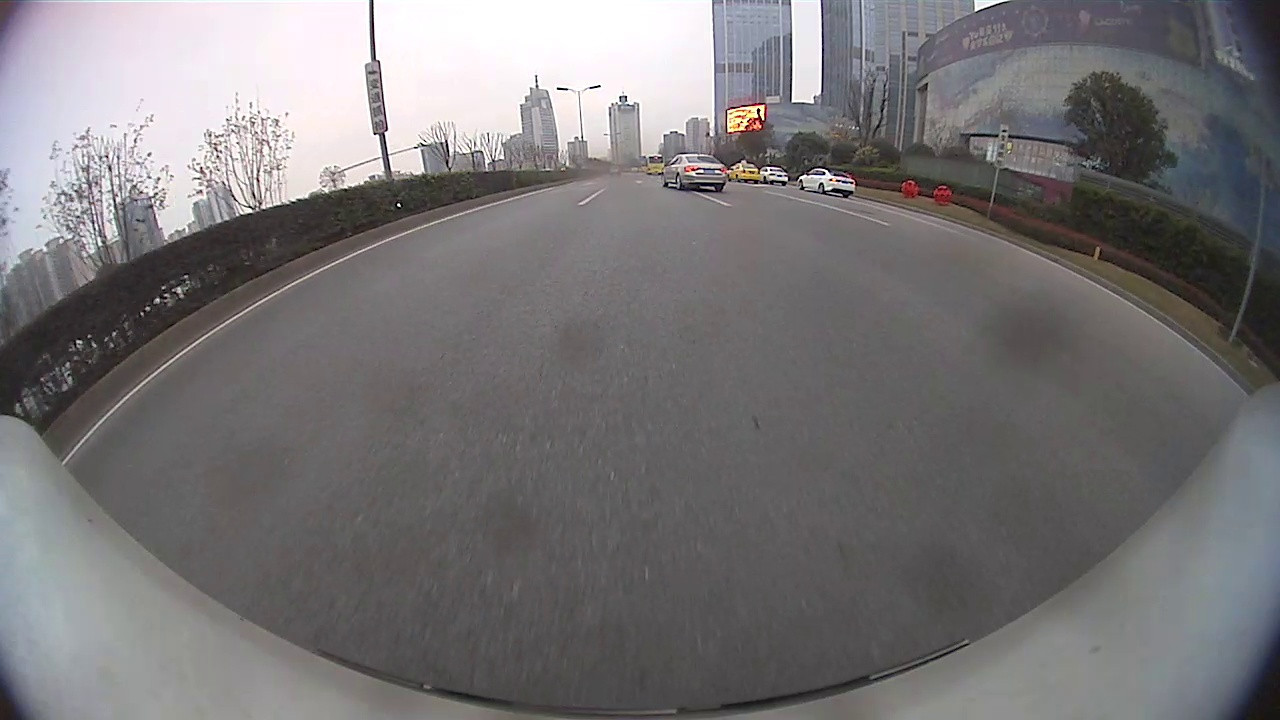car: (660, 148, 730, 193), (795, 163, 858, 198), (727, 158, 763, 187)
